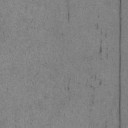surface scratch: (118, 0, 122, 128)
